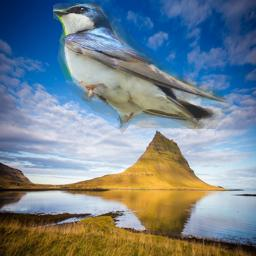Swallow: (53, 3, 230, 135)
